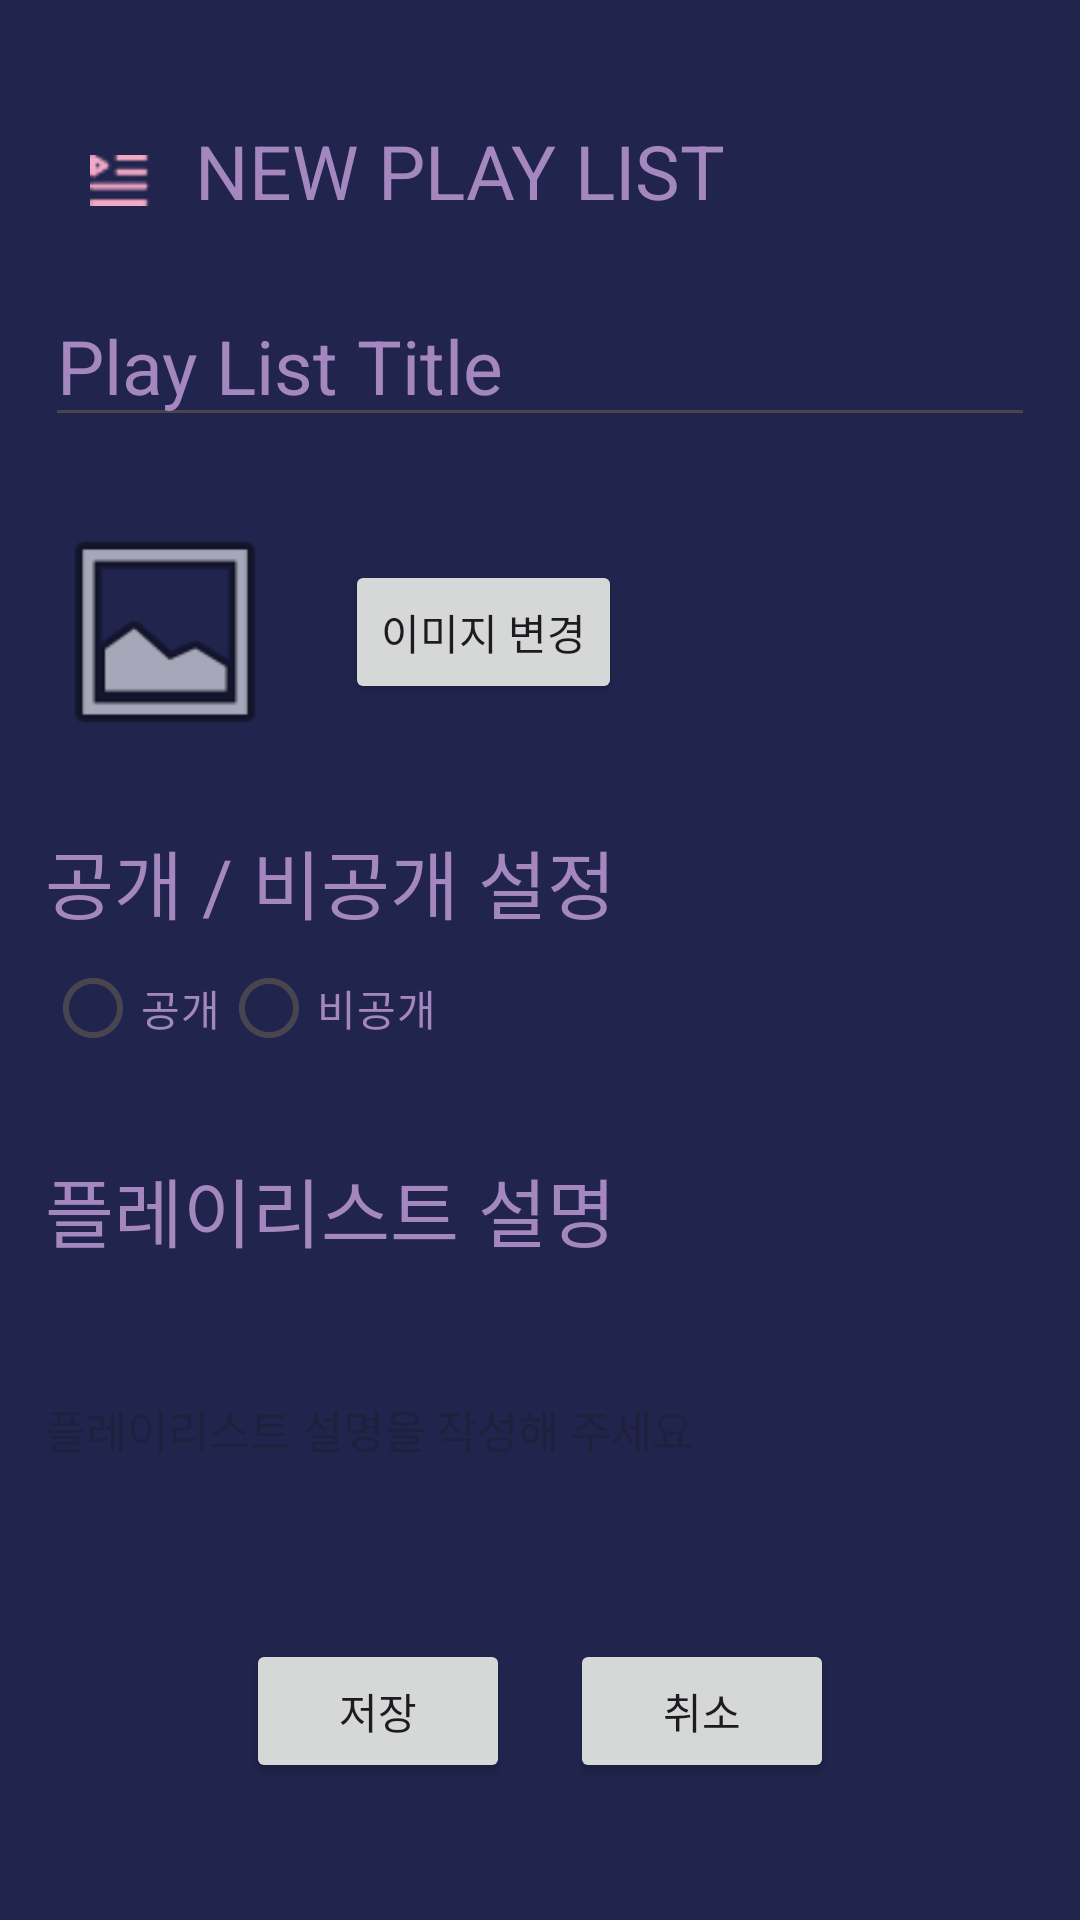

Icons on this 1080 x 1920 Android screen, each with its box as (x1, y1, x2, y2):
gallery: (76, 543, 254, 721)
